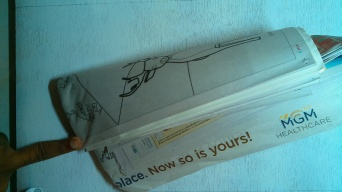p: (56, 24, 342, 191)
